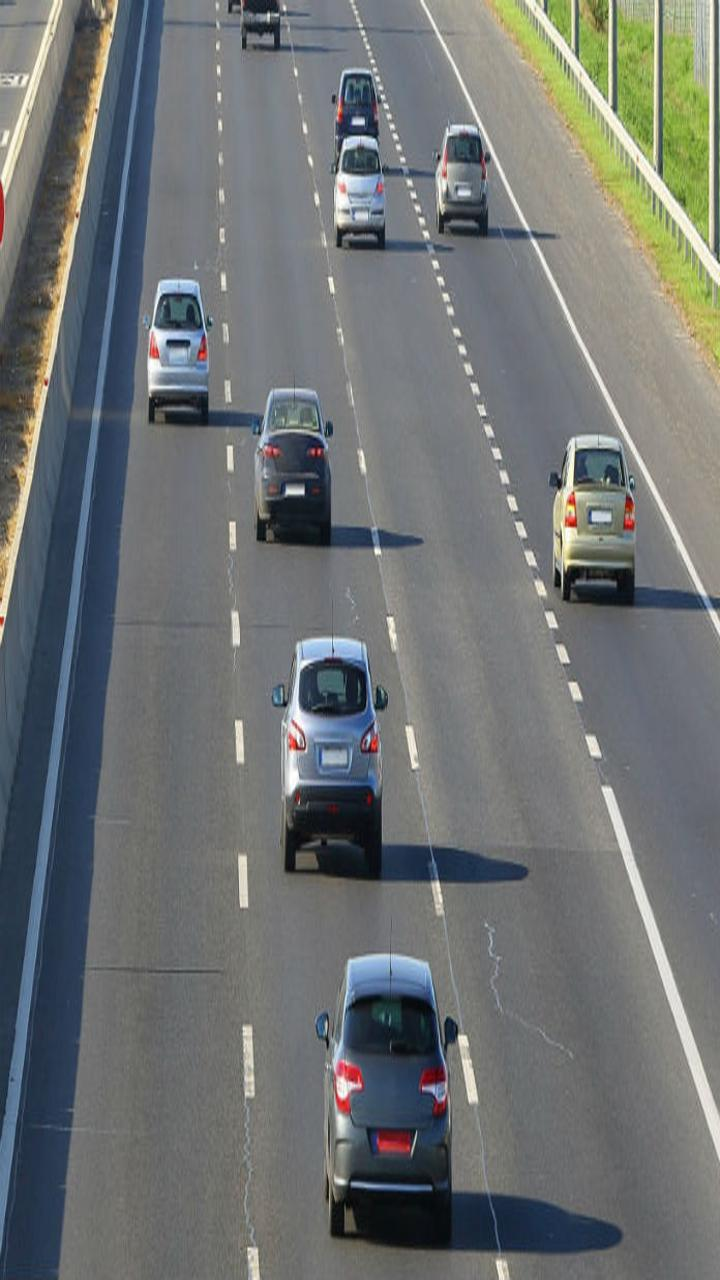vehicle: (304, 939, 462, 1239), (277, 613, 394, 876), (128, 264, 216, 436), (252, 374, 340, 546), (551, 430, 639, 602), (428, 101, 516, 273), (323, 38, 394, 154), (329, 125, 400, 241), (236, 1, 298, 65)
